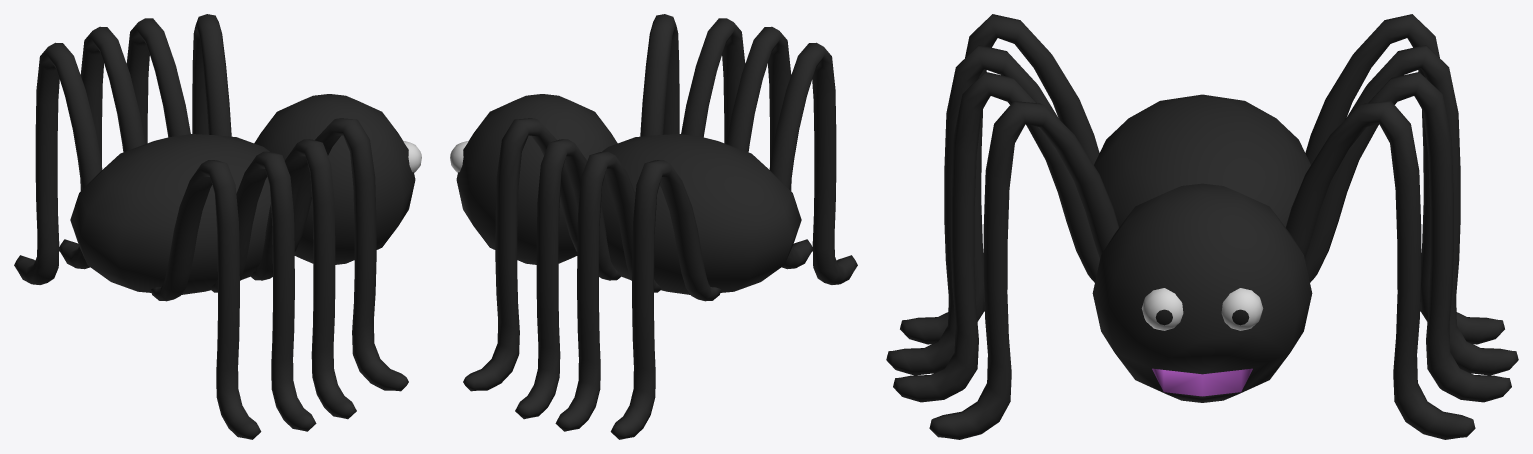
The model's file is crsppdr.dae.
3 renders of one model, left to right at view 1: azimuth 30°, elevation 25°; view 2: azimuth 150°, elevation 25°; view 3: azimuth 270°, elevation 25°, orthographic. The views are drawn at different scales.
Parts seen in each view (by area): view 1: Sphere_001, Cube_013, Cube_011, Cube_014, Cube_012, Sphere; view 2: Sphere_001, Cube_013, Cube_011, Cube_014, Cube_012, Sphere; view 3: Sphere, Cube_012, Cube_014, Sphere_001, Cube_013, Cube_011, Sphere_002.
Boxes of the visible parts, bbox=[...] form: Sphere_001: bbox=[70, 134, 270, 294]; Cube_013: bbox=[14, 42, 261, 439]; Cube_011: bbox=[59, 26, 316, 431]; Cube_014: bbox=[126, 18, 356, 419]; Cube_012: bbox=[192, 14, 408, 391]; Sphere: bbox=[254, 94, 415, 264]; Sphere_001: bbox=[601, 134, 801, 294]; Cube_013: bbox=[610, 42, 857, 439]; Cube_011: bbox=[555, 26, 812, 431]; Cube_014: bbox=[515, 18, 745, 419]; Cube_012: bbox=[463, 14, 679, 391]; Sphere: bbox=[456, 94, 617, 264]; Sphere: bbox=[1092, 183, 1312, 402]; Cube_012: bbox=[929, 101, 1475, 439]; Cube_014: bbox=[893, 72, 1511, 402]; Sphere_001: bbox=[1094, 94, 1310, 227]; Cube_013: bbox=[900, 14, 1504, 344]; Cube_011: bbox=[886, 45, 1518, 375]; Sphere_002: bbox=[1141, 288, 1263, 330].
Size of the model in its own units: 5.69 by 7.5 by 4.29.
